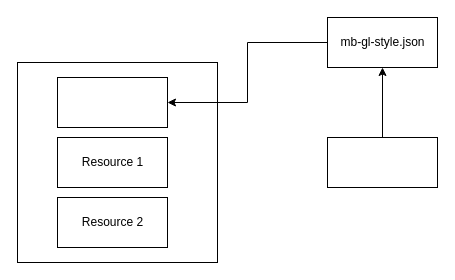
The diagram is 455 pixels wide and 280 high, and some of its shapes have lost their labels. The shapes that lost their labels are listed below. From the top down, each one's centre as x and y in pixels, then its label:
At (112,102): "View".
At (382,162): "Maputnik".
